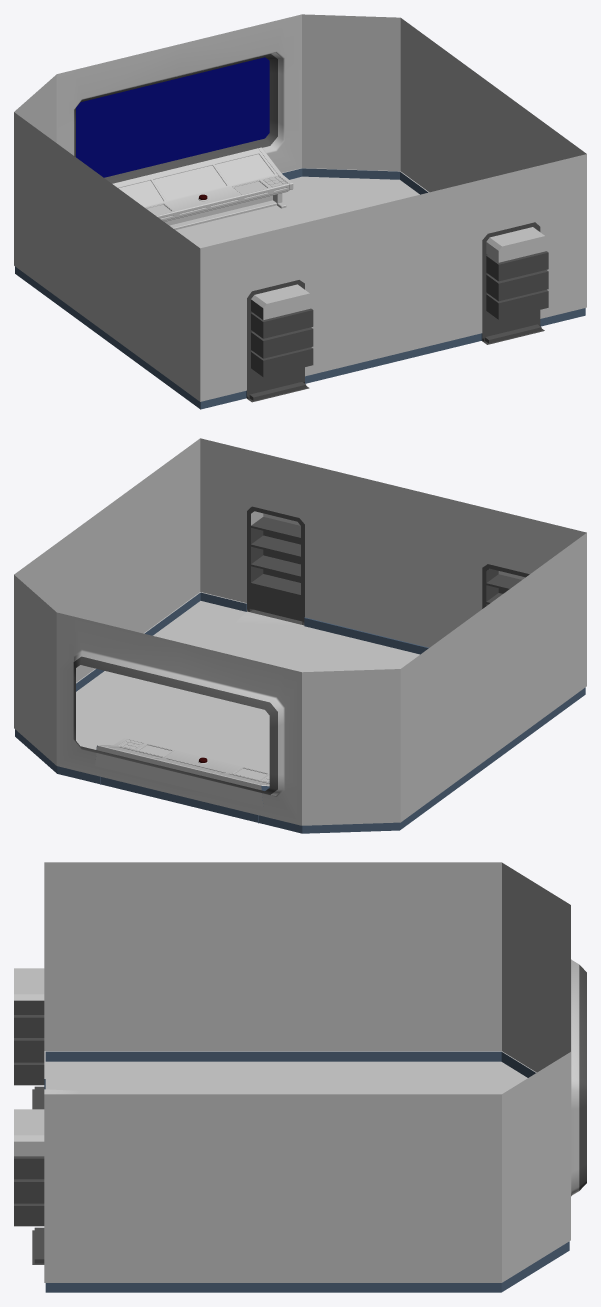
Rendered from ML_hall.fbx.
The picture shows the model from 3 angles, top to bottom: view 1: azimuth 30°, elevation 25°; view 2: azimuth 150°, elevation 25°; view 3: azimuth 270°, elevation 25°; orthographic projection. The views are drawn at different scales.
Parts seen in each view (by area): view 1: ML_hall; view 2: ML_hall; view 3: ML_hall.
Boxes of the visible parts, bbox=[...] form: ML_hall: bbox=[14, 14, 586, 409]; ML_hall: bbox=[14, 438, 586, 833]; ML_hall: bbox=[14, 862, 586, 1292].
Size of the model in its own units: 1500 by 600 by 1567.
